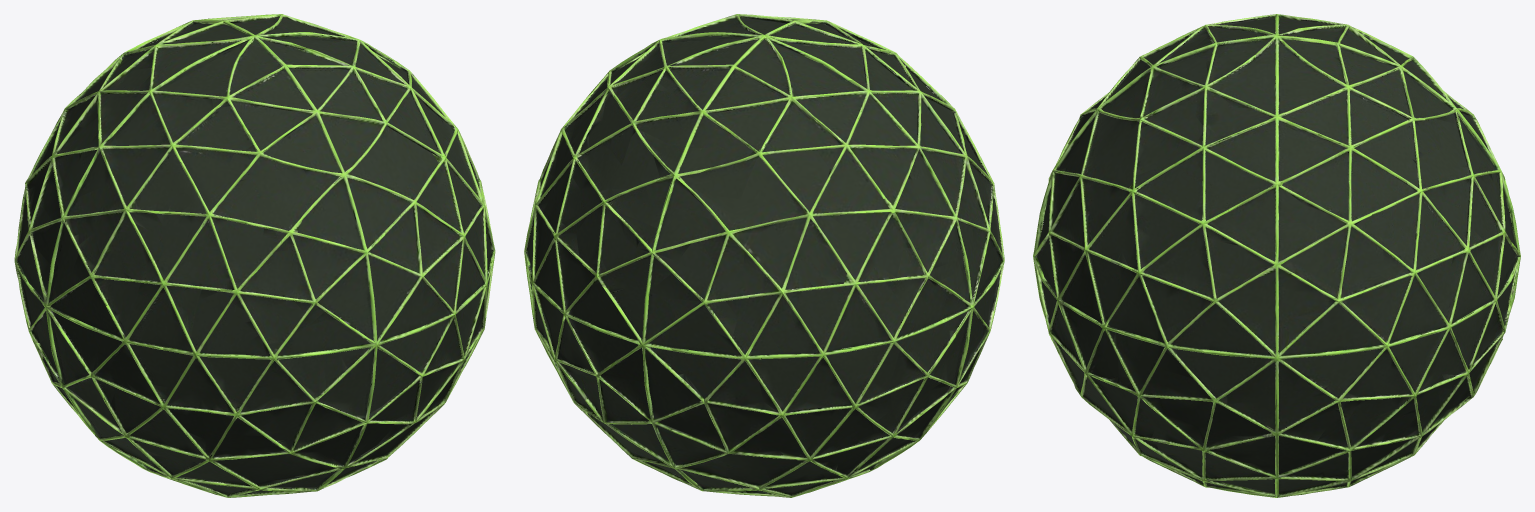
The model's file is EsferaVerde.glb.
The picture shows the model from 3 angles, left to right: view 1: azimuth 30°, elevation 25°; view 2: azimuth 150°, elevation 25°; view 3: azimuth 270°, elevation 25°; orthographic projection.
Visible parts, largest first — view 1: tripo_node_17b854ee-b2bd-4fde-ab1b-37d76c688fe7; view 2: tripo_node_17b854ee-b2bd-4fde-ab1b-37d76c688fe7; view 3: tripo_node_17b854ee-b2bd-4fde-ab1b-37d76c688fe7.
Boxes of the visible parts, <box> form: tripo_node_17b854ee-b2bd-4fde-ab1b-37d76c688fe7: <box>14,14,495,497</box>; tripo_node_17b854ee-b2bd-4fde-ab1b-37d76c688fe7: <box>524,14,1004,497</box>; tripo_node_17b854ee-b2bd-4fde-ab1b-37d76c688fe7: <box>1033,14,1520,497</box>.
Size of the model in its own units: 0.9725 by 0.9806 by 0.9807.
Materials: 1 (1 with a texture image).
